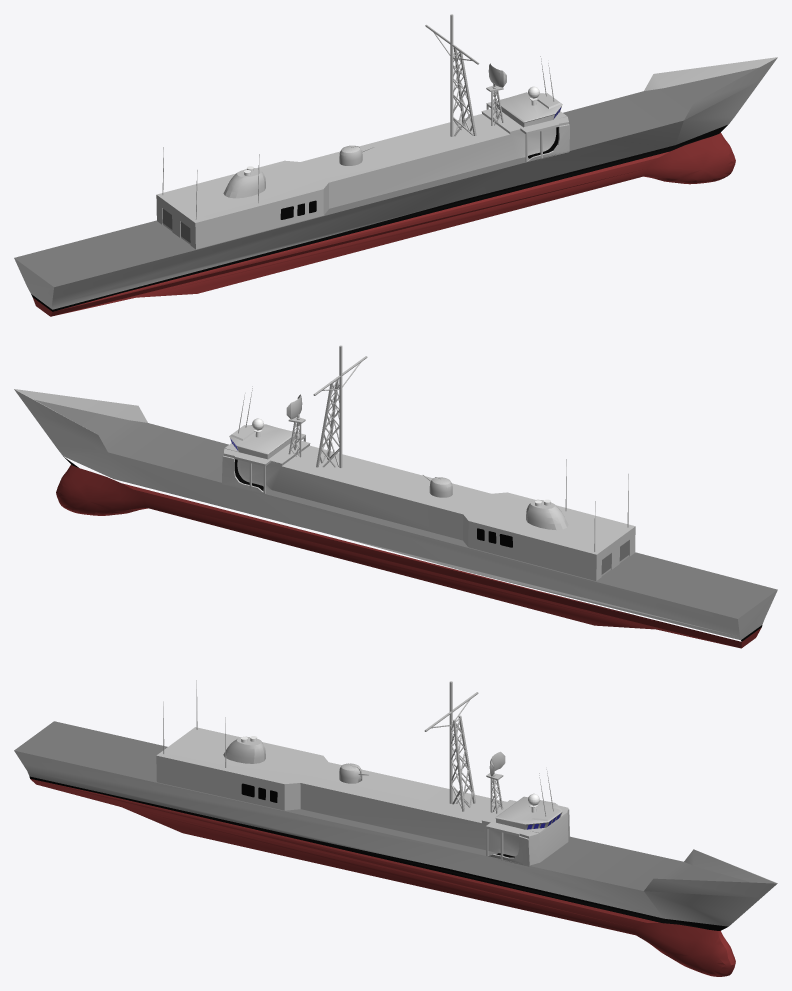
Rendered from vessel-0.glb.
3 views of the same model, one above another, from view 1: azimuth 30°, elevation 25°; view 2: azimuth 150°, elevation 25°; view 3: azimuth 330°, elevation 25° (orthographic).
Visible parts, largest first — view 1: obj73, obj70, obj76, obj79, obj57, obj62, obj54; view 2: obj73, obj70, obj76, obj57, obj62, obj54; view 3: obj73, obj70, obj76, obj79, obj57, obj62, obj54.
Boxes of the visible parts, x1,y1,x2,y2 form: obj73: (14,57,777,309); obj70: (32,132,735,316); obj76: (14,67,758,287); obj79: (31,125,727,311); obj57: (425,14,479,136); obj62: (223,168,265,198); obj54: (486,63,506,125); obj73: (14,389,777,640); obj70: (56,464,761,648); obj76: (34,399,777,618); obj57: (313,345,367,467); obj62: (526,499,568,530); obj54: (286,394,305,457); obj73: (14,727,777,926); obj70: (30,779,735,976); obj76: (14,721,751,890); obj79: (29,776,727,930); obj57: (424,681,478,811); obj62: (223,736,265,763); obj54: (486,751,505,813).
Bounding box in the file's own units: 1 × 0.2952 × 0.1215.
